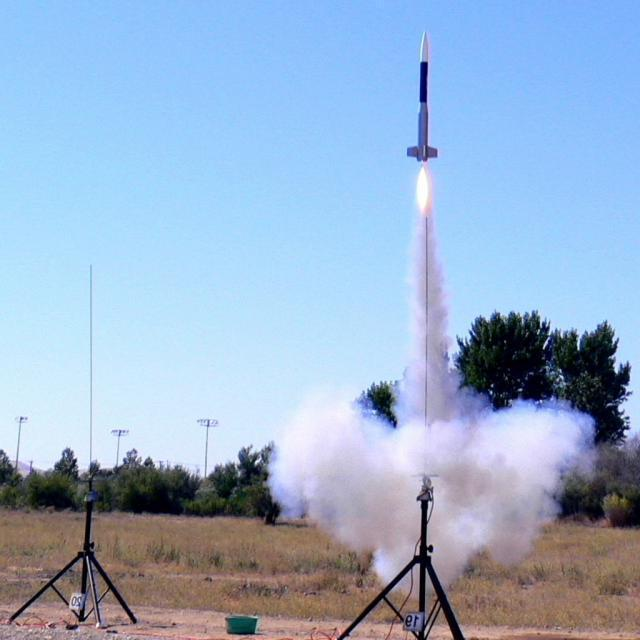missile: (412, 28, 436, 165)
